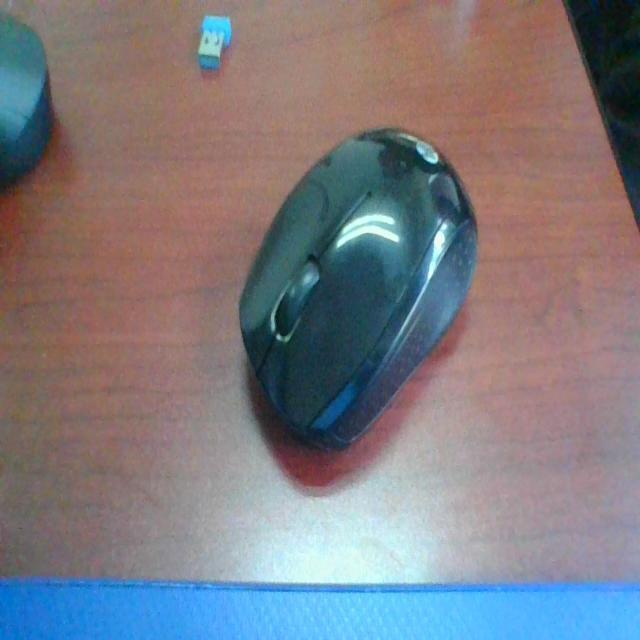Mouse: (233, 114, 484, 440)
